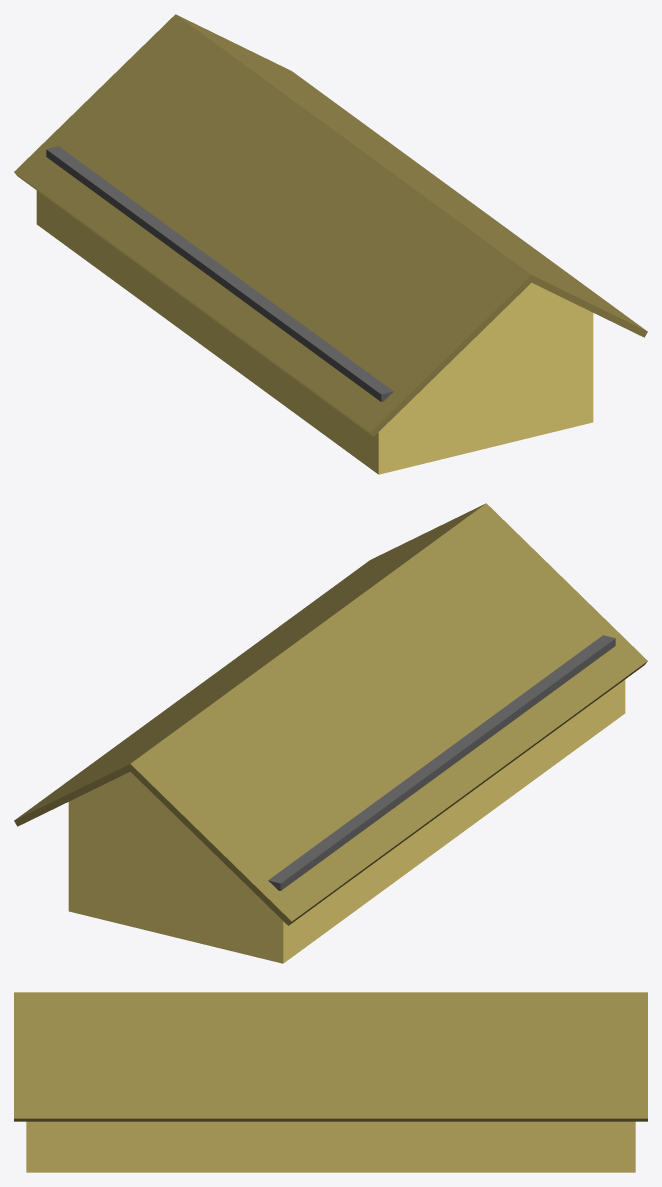
Rendered from result.glb.
3 views of the same model, one above another, from view 1: azimuth 30°, elevation 25°; view 2: azimuth 150°, elevation 25°; view 3: azimuth 270°, elevation 25° (orthographic). The views are drawn at different scales.
Parts seen in each view (by area): view 1: 172e836a-eba0-4b37-8f44-92e4977b721c__undefined (×2), aa4a9701-27c6-46f2-9d0d-251a3733b09d__undefined, 49b8a617-cdac-4627-b211-a2f94e0a1705__Box; view 2: 172e836a-eba0-4b37-8f44-92e4977b721c__undefined (×2), aa4a9701-27c6-46f2-9d0d-251a3733b09d__undefined, 49b8a617-cdac-4627-b211-a2f94e0a1705__Box; view 3: 172e836a-eba0-4b37-8f44-92e4977b721c__undefined, aa4a9701-27c6-46f2-9d0d-251a3733b09d__undefined.
Boxes of the visible parts, x1,y1,x2,y2 form: 172e836a-eba0-4b37-8f44-92e4977b721c__undefined (×2): (14, 14, 647, 436); aa4a9701-27c6-46f2-9d0d-251a3733b09d__undefined: (36, 191, 593, 474); 49b8a617-cdac-4627-b211-a2f94e0a1705__Box: (46, 146, 393, 401); 172e836a-eba0-4b37-8f44-92e4977b721c__undefined (×2): (14, 503, 647, 925); aa4a9701-27c6-46f2-9d0d-251a3733b09d__undefined: (68, 680, 625, 963); 49b8a617-cdac-4627-b211-a2f94e0a1705__Box: (268, 635, 615, 890); 172e836a-eba0-4b37-8f44-92e4977b721c__undefined: (14, 992, 647, 1121); aa4a9701-27c6-46f2-9d0d-251a3733b09d__undefined: (26, 1121, 635, 1172).
Bounding box in the file's own units: 1145 × 667 × 2541.
